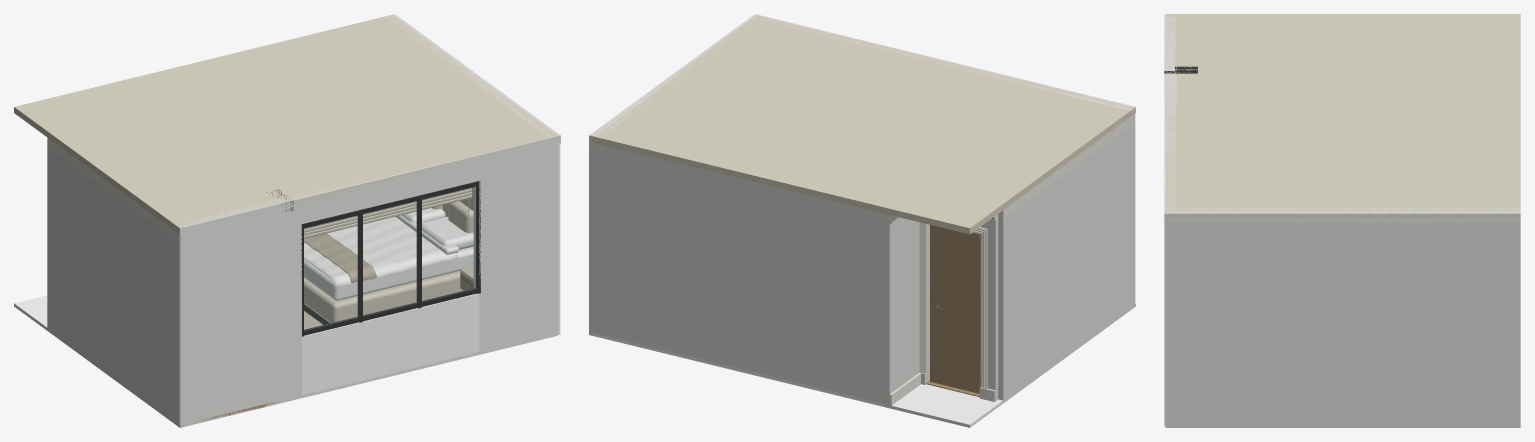
3 views of the same model, side by side, from view 1: azimuth 30°, elevation 25°; view 2: azimuth 150°, elevation 25°; view 3: azimuth 270°, elevation 25° (orthographic). The views are drawn at different scales.
Visible parts, largest first — view 1: Bedroom 2 | ceiling.001, Proposal revision | Bedroom 2 stair partition | end.001, Proposal revision | First front | corrected wall 14.001, Proposal | Modern original upper window 0 glass.001, Proposal revision | First front | corrected wall 17.001, Proposal revision | First front | corrected wall 15.001, Proposal revision | First front | corrected wall 13.001, Bedroom2 01 | draped cotton duvet.001, Landing continuous ceiling.001, Proposal revision | First front | corrected wall 16.001, Bedroom2 01 | bed upholstered frame.001, Proposal revision | Roof join | First front masonry head.003 (+18 smaller); view 2: Bedroom 2 | ceiling.001, Proposal revision | Principal bedroom 2 | end.001, Proposal revision | Bedroom 2 stair partition | end.001, Bedroom2 01 | entrance door leaf.001, Landing continuous ceiling.001, Proposal revision | Bedroom 2 hall | end.001, Proposal revision | Landing | floor.001, Trim comparison | Bedroom 2 door opening 1 side 1 mitred cas, Principal bedroom | ceiling.001, Proposal revision | First east | end.001, Proposal revision | Principal hall return | end.001, Proposal revision | Bedroom 2 door | pier 0.001 (+7 smaller); view 3: Proposal revision | First east | end.001, Bedroom 2 | ceiling.001, Landing continuous ceiling.001, Proposal revision | Roof join | First east masonry head.001, Roof join | East soffit.001, Proposal revision | Roof join | First front masonry head.003, Proposal revision | Exterior brick floor band First east.001, Proposal | Joined roof lining 023 | Retained original hip 2., Proposal | Joined roof lining 007 | Retained original hip 1., Proposal | Entrance upper ceiling.001, Principal bedroom | ceiling.001, Proposal revision | First front | corrected wall 17.001.
Boxes of the visible parts, <box> form: Bedroom 2 | ceiling.001: <box>52,15,557,226</box>; Proposal revision | Bedroom 2 stair partition | end.001: <box>47,137,179,424</box>; Proposal revision | First front | corrected wall 14.001: <box>203,205,301,418</box>; Proposal | Modern original upper window 0 glass.001: <box>304,187,476,330</box>; Proposal revision | First front | corrected wall 17.001: <box>479,143,558,351</box>; Proposal revision | First front | corrected wall 15.001: <box>302,293,479,394</box>; Proposal revision | First front | corrected wall 13.001: <box>179,229,203,424</box>; Bedroom2 01 | draped cotton duvet.001: <box>304,217,458,288</box>; Landing continuous ceiling.001: <box>14,86,183,233</box>; Proposal revision | First front | corrected wall 16.001: <box>302,161,479,223</box>; Bedroom2 01 | bed upholstered frame.001: <box>304,271,463,323</box>; Proposal revision | Roof join | First front masonry head.003: <box>200,135,558,228</box>; Bedroom 2 | ceiling.001: <box>595,15,1129,206</box>; Proposal revision | Principal bedroom 2 | end.001: <box>591,143,884,403</box>; Proposal revision | Bedroom 2 stair partition | end.001: <box>998,114,1135,400</box>; Bedroom2 01 | entrance door leaf.001: <box>930,225,980,393</box>; Landing continuous ceiling.001: <box>885,106,1135,234</box>; Proposal revision | Bedroom 2 hall | end.001: <box>890,218,919,393</box>; Proposal revision | Landing | floor.001: <box>885,384,1002,427</box>; Trim comparison | Bedroom 2 door opening 1 side 1 mitred cas: <box>919,222,987,388</box>; Principal bedroom | ceiling.001: <box>591,136,885,213</box>; Proposal revision | First east | end.001: <box>589,142,600,334</box>; Proposal revision | Principal hall return | end.001: <box>880,212,890,405</box>; Proposal revision | Bedroom 2 door | pier 0.001: <box>981,214,998,400</box>; Proposal revision | First east | end.001: <box>1165,220,1520,424</box>; Bedroom 2 | ceiling.001: <box>1165,16,1518,212</box>; Landing continuous ceiling.001: <box>1165,14,1520,58</box>; Proposal revision | Roof join | First east masonry head.001: <box>1165,207,1520,219</box>; Roof join | East soffit.001: <box>1164,218,1520,222</box>; Proposal revision | Roof join | First front masonry head.003: <box>1164,26,1176,212</box>; Proposal revision | Exterior brick floor band First east.001: <box>1165,424,1520,427</box>; Proposal | Joined roof lining 023 | Retained original hip 2.: <box>1168,210,1519,218</box>; Proposal | Joined roof lining 007 | Retained original hip 1.: <box>1164,75,1176,155</box>; Proposal | Entrance upper ceiling.001: <box>1164,14,1174,70</box>; Principal bedroom | ceiling.001: <box>1518,58,1520,211</box>; Proposal revision | First front | corrected wall 17.001: <box>1164,223,1165,423</box>.
Bounding box in the file's own units: 5.13 × 2.57 × 3.87.
Materials: 21 (5 with a texture image).
